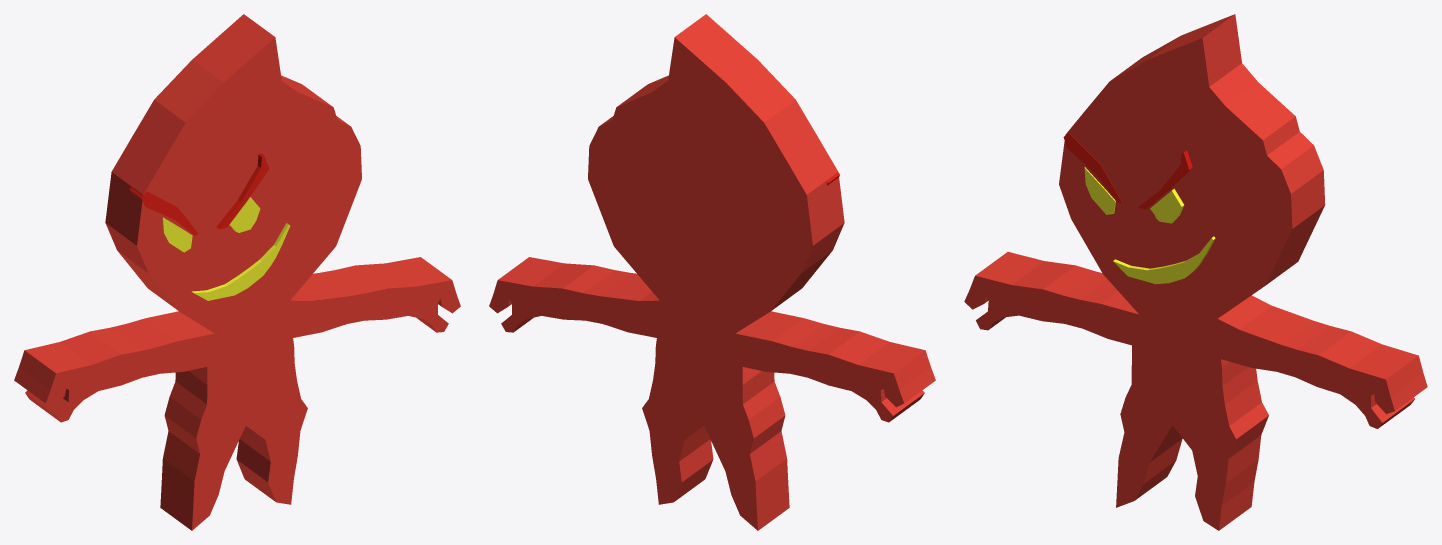
Rendered from elemental.fbx.
3 renders of one model, left to right at view 1: azimuth 30°, elevation 25°; view 2: azimuth 150°, elevation 25°; view 3: azimuth 330°, elevation 25°, orthographic. The views are drawn at different scales.
Visible parts, largest first — view 1: Vilan; view 2: Vilan; view 3: Vilan.
Part boxes in pixels (<box>): Vilan: <box>14,14,460,530</box>; Vilan: <box>489,14,935,530</box>; Vilan: <box>964,14,1427,530</box>.
Size of the model in its own units: 280 by 305 by 40.78.
